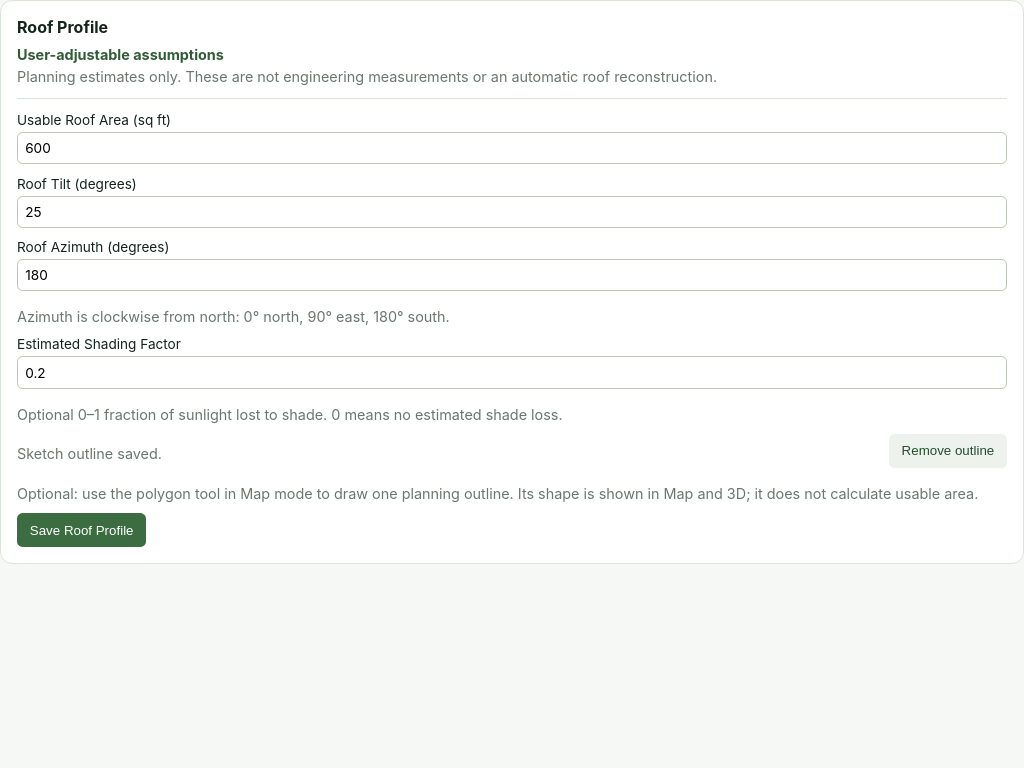
Test: RoofProfilePanel › shows existing assumptions on revisit and saves an update with geometry
Expected: the text "User-adjustable assumptions" is shown, [17,46,224,63]
Expected: the number field labelled "Usable Roof Area (sq ft)" holds "600", [17,132,1007,164]
Replace the text in the number field labelled "Roof Tilt (degrees)" with "30": (512, 212) [17,196,1007,228]
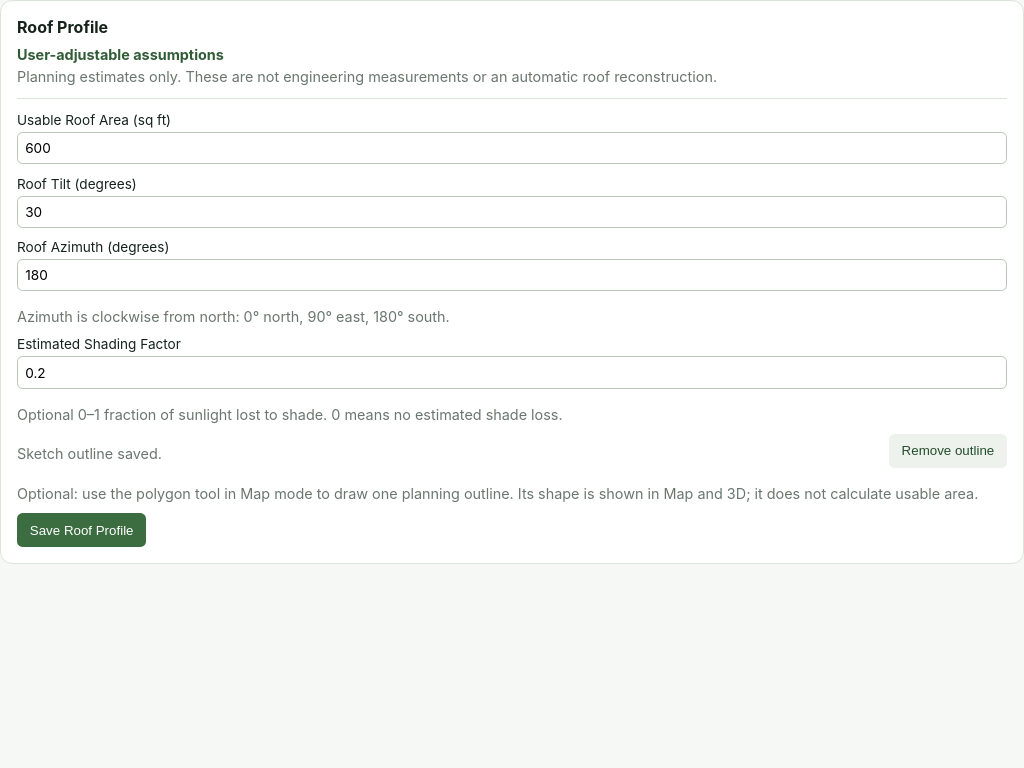
Click the button "Save Roof Profile": (82, 530) [17,513,146,547]
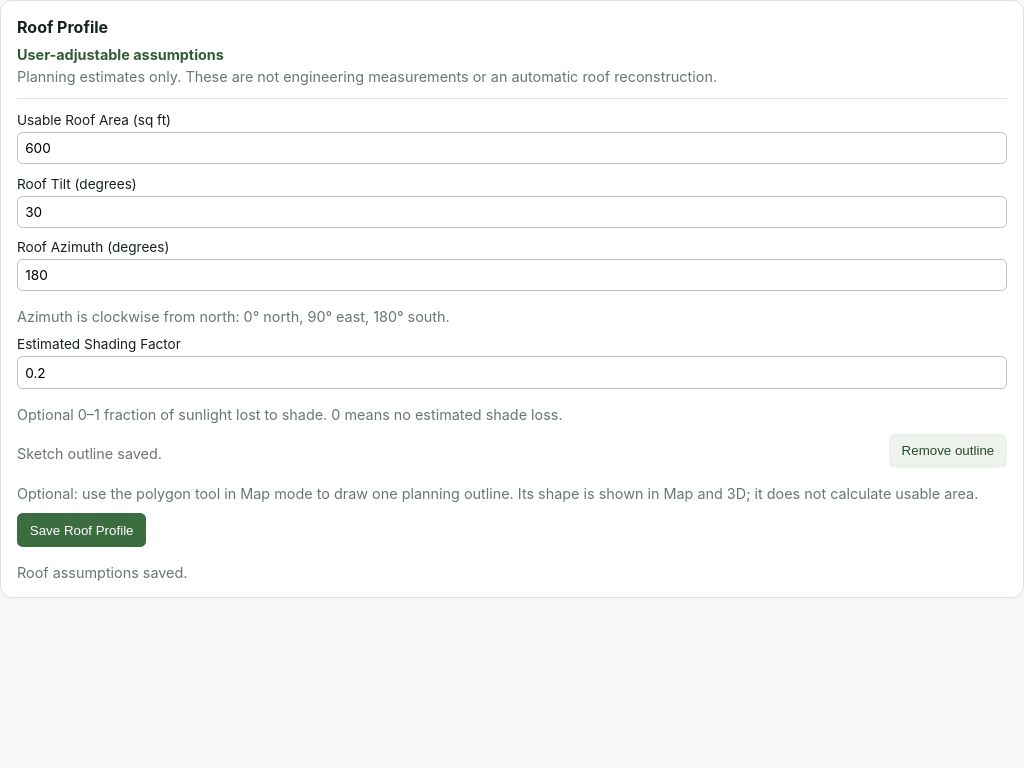
Now the message reads "Roof assumptions saved.", box [17,564,188,581]
